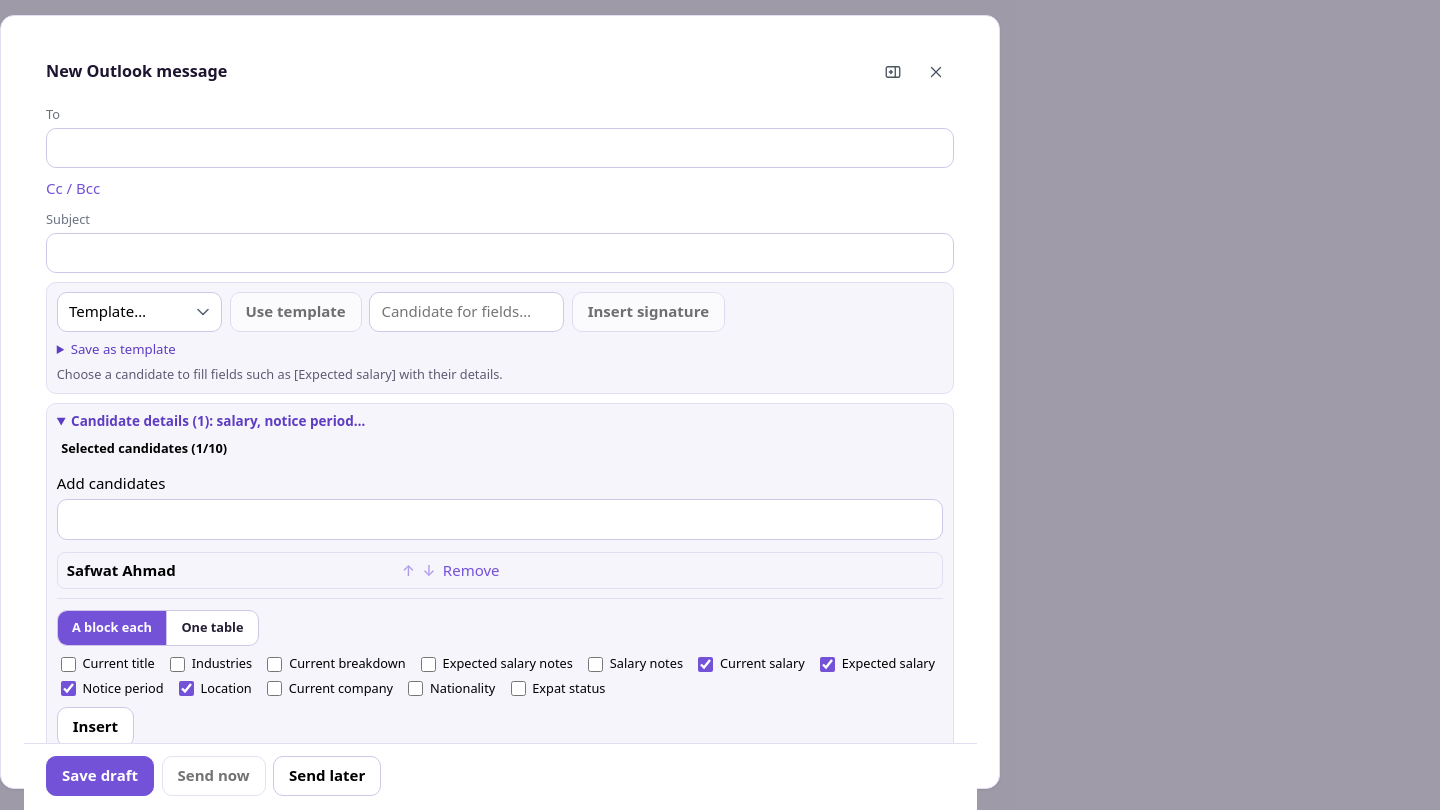
Test: HyPlug tools in the Outlook editor › uses a template with the candidate's details, salary included, and saves what was written as a template
Later steps or results of the test are not shown.
Select "Profiles for client" in the dropdown named "Template" at (139, 312), box [57,292,222,332]
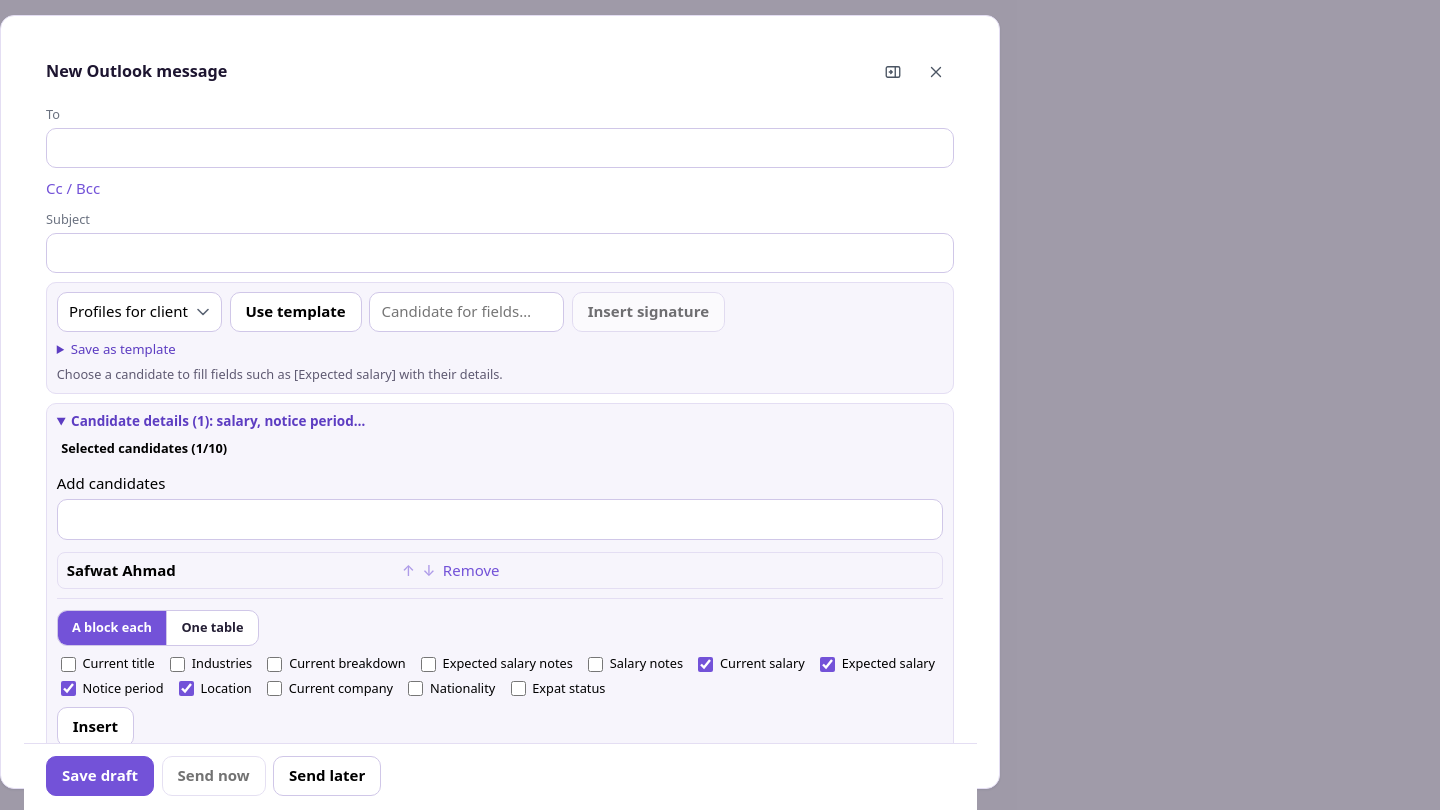
Click the button "Use template" at (296, 312), box [230,292,362,332]
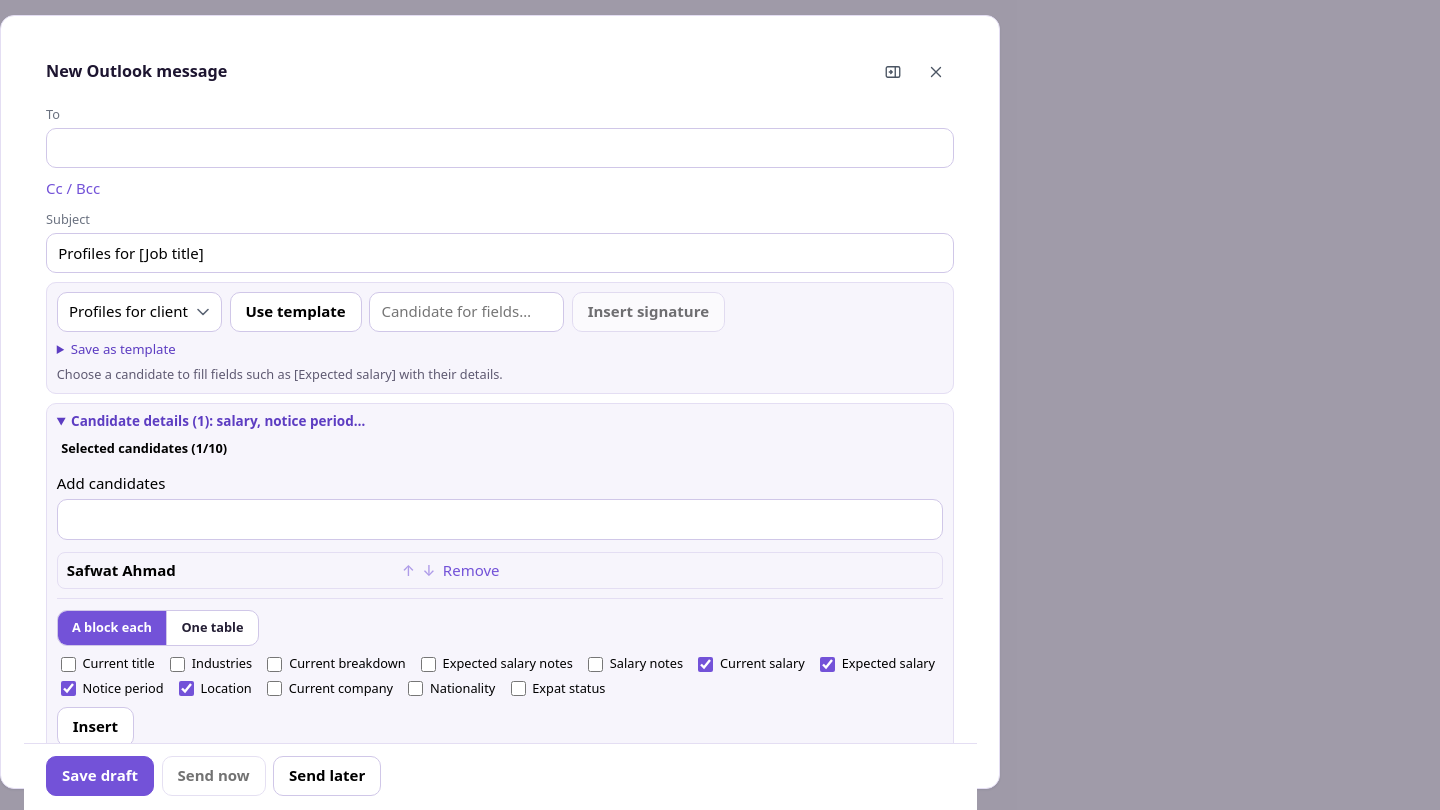
Expected: the field labelled "Subject" holds "Profiles for [Job title]", [46,233,954,273]
